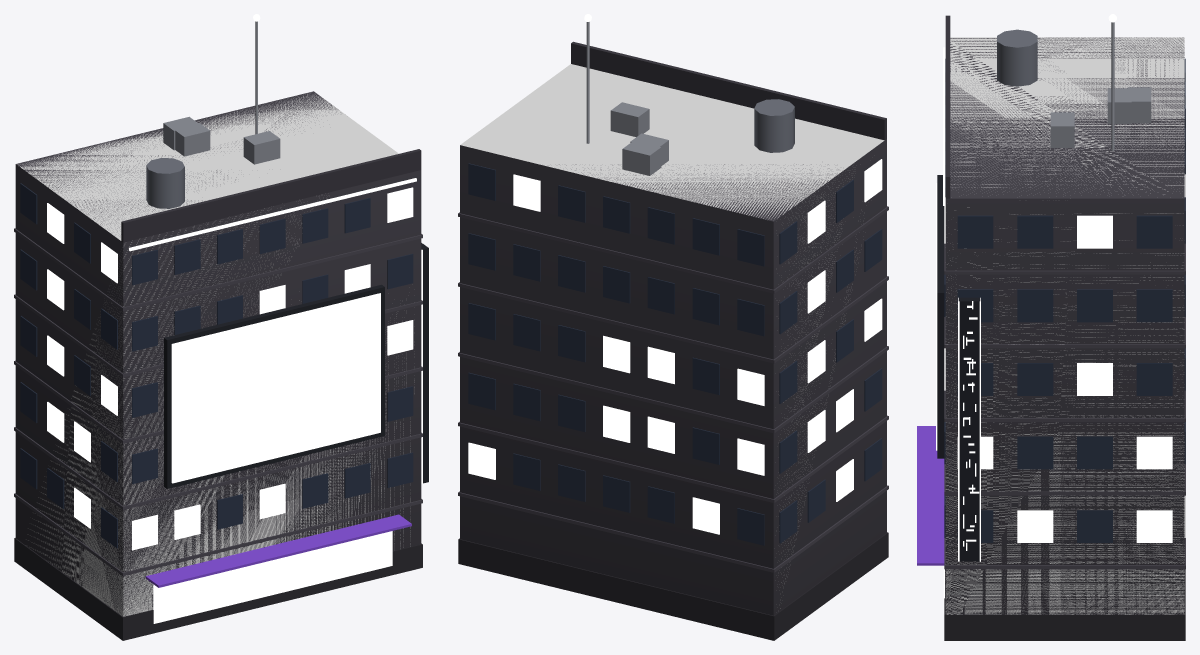
File: torre_neon_c.glb
3 renders of one model, left to right at view 1: azimuth 30°, elevation 25°; view 2: azimuth 150°, elevation 25°; view 3: azimuth 270°, elevation 25°, orthographic. The views are drawn at different scales.
Visible parts, largest first — view 1: torre_neon_c_Malla, COL_0; view 2: torre_neon_c_Malla, COL_0; view 3: torre_neon_c_Malla, COL_0.
Part boxes in pixels (<box>): torre_neon_c_Malla: <box>14,14,429,640</box>; COL_0: <box>18,94,414,616</box>; torre_neon_c_Malla: <box>458,14,888,640</box>; COL_0: <box>460,64,884,608</box>; torre_neon_c_Malla: <box>917,14,1185,640</box>; COL_0: <box>945,37,1184,614</box>.
Size of the model in its own units: 16.83 by 26.68 by 11.26.
